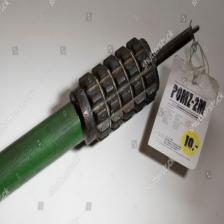POMZ2: (0, 22, 214, 187)
